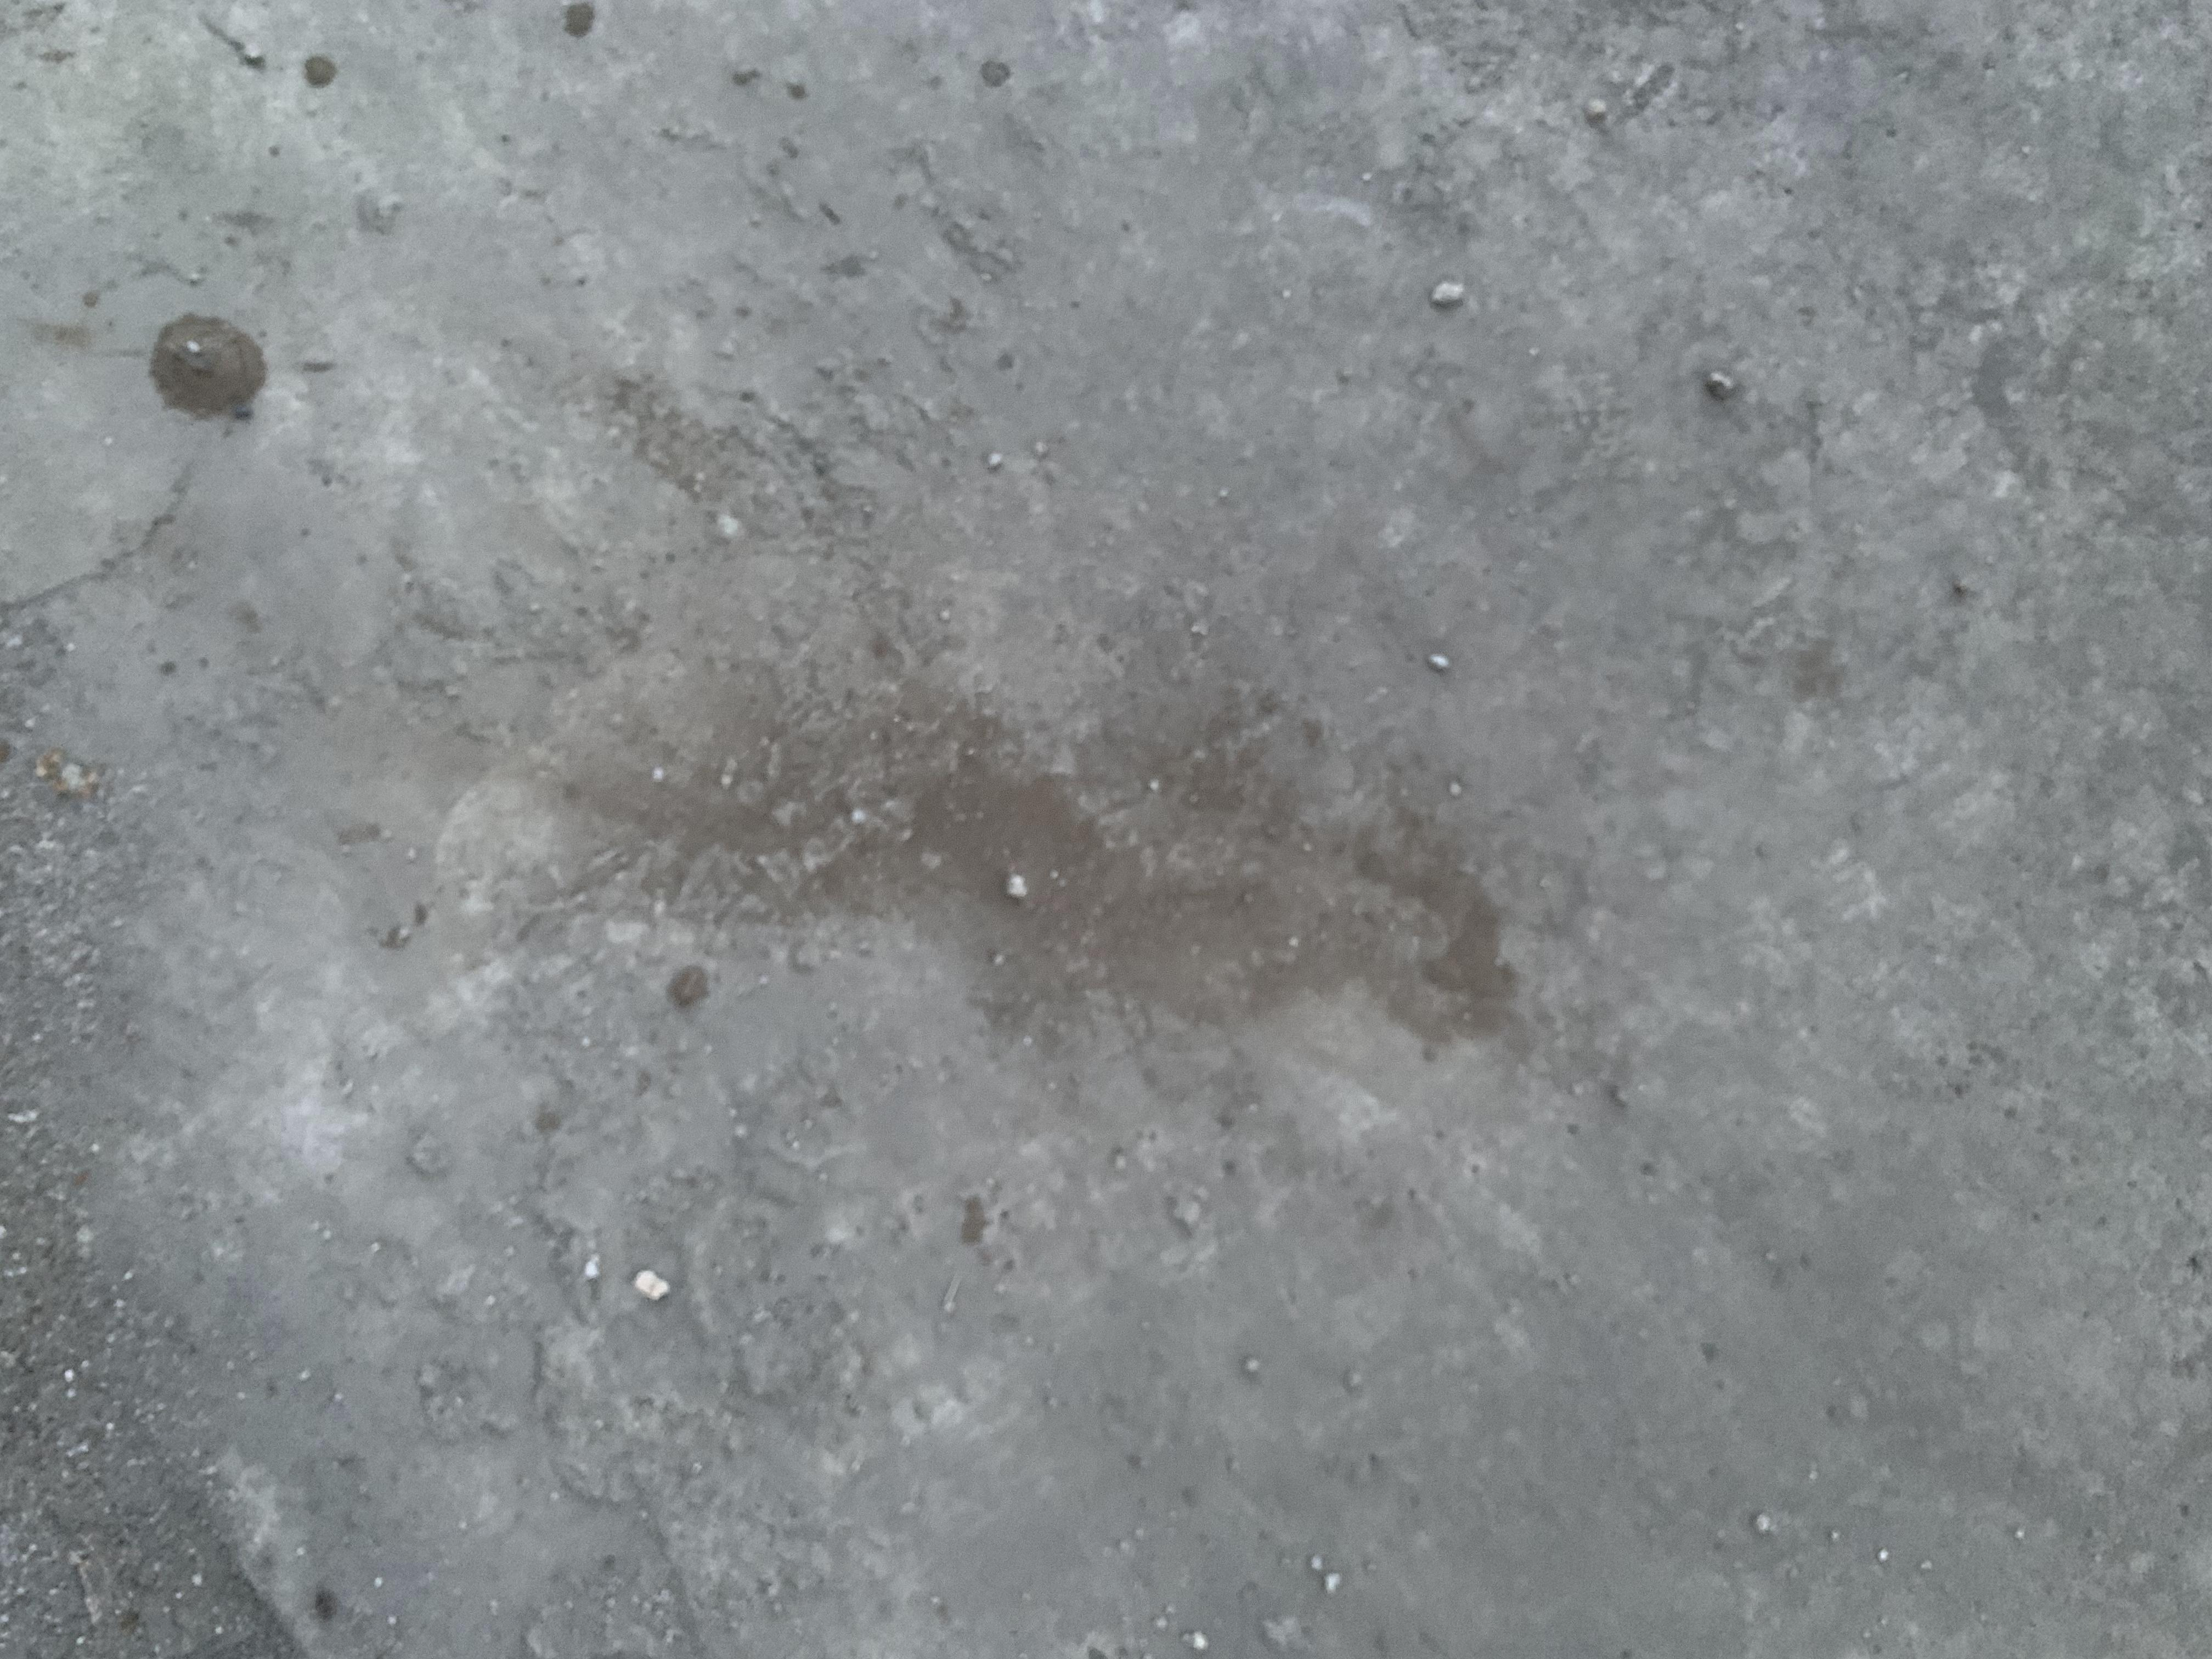ash pile: (550, 653, 1534, 1049)
grey spot: (145, 312, 268, 422)
